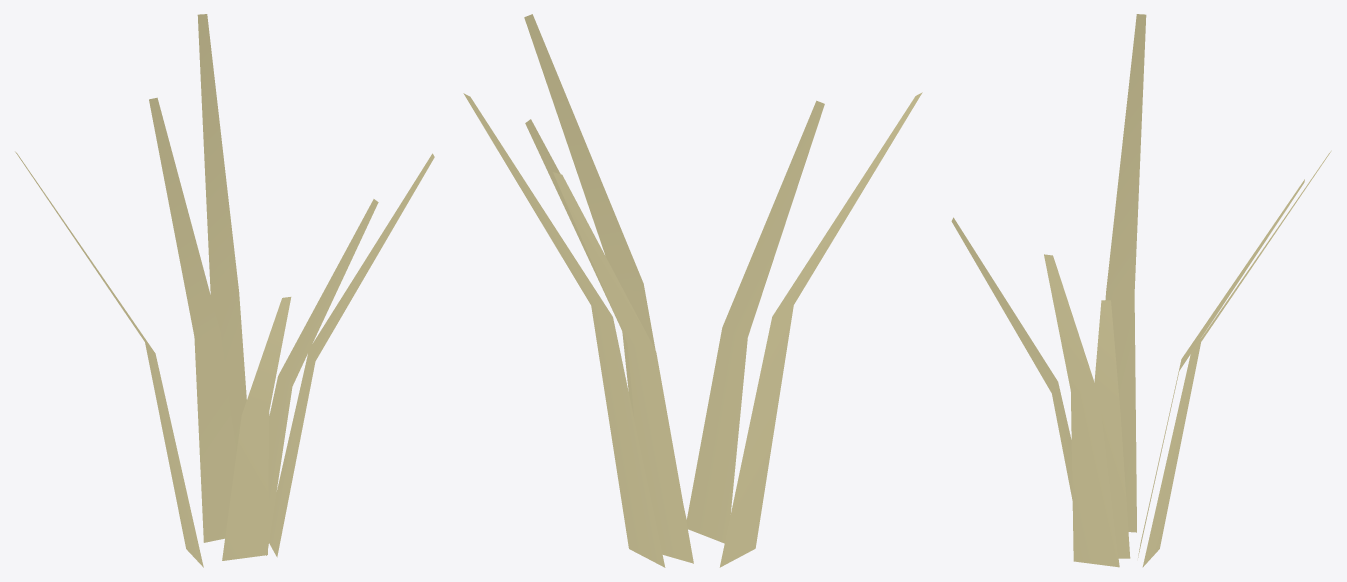
Rendered from prop_grass_dry_a.glb.
The picture shows the model from 3 angles, left to right: view 1: azimuth 30°, elevation 25°; view 2: azimuth 150°, elevation 25°; view 3: azimuth 270°, elevation 25°; orthographic projection. The views are drawn at different scales.
Visible parts, largest first — view 1: SM_DryA_LOD0; view 2: SM_DryA_LOD0; view 3: SM_DryA_LOD0.
Part boxes in pixels (x1=…): SM_DryA_LOD0: x1=15, y1=14, x2=434, y2=567; SM_DryA_LOD0: x1=463, y1=14, x2=922, y2=567; SM_DryA_LOD0: x1=951, y1=14, x2=1331, y2=567.
Size of what is drawn, in the model's own units: 0.9843 by 1.1 by 0.8708.
